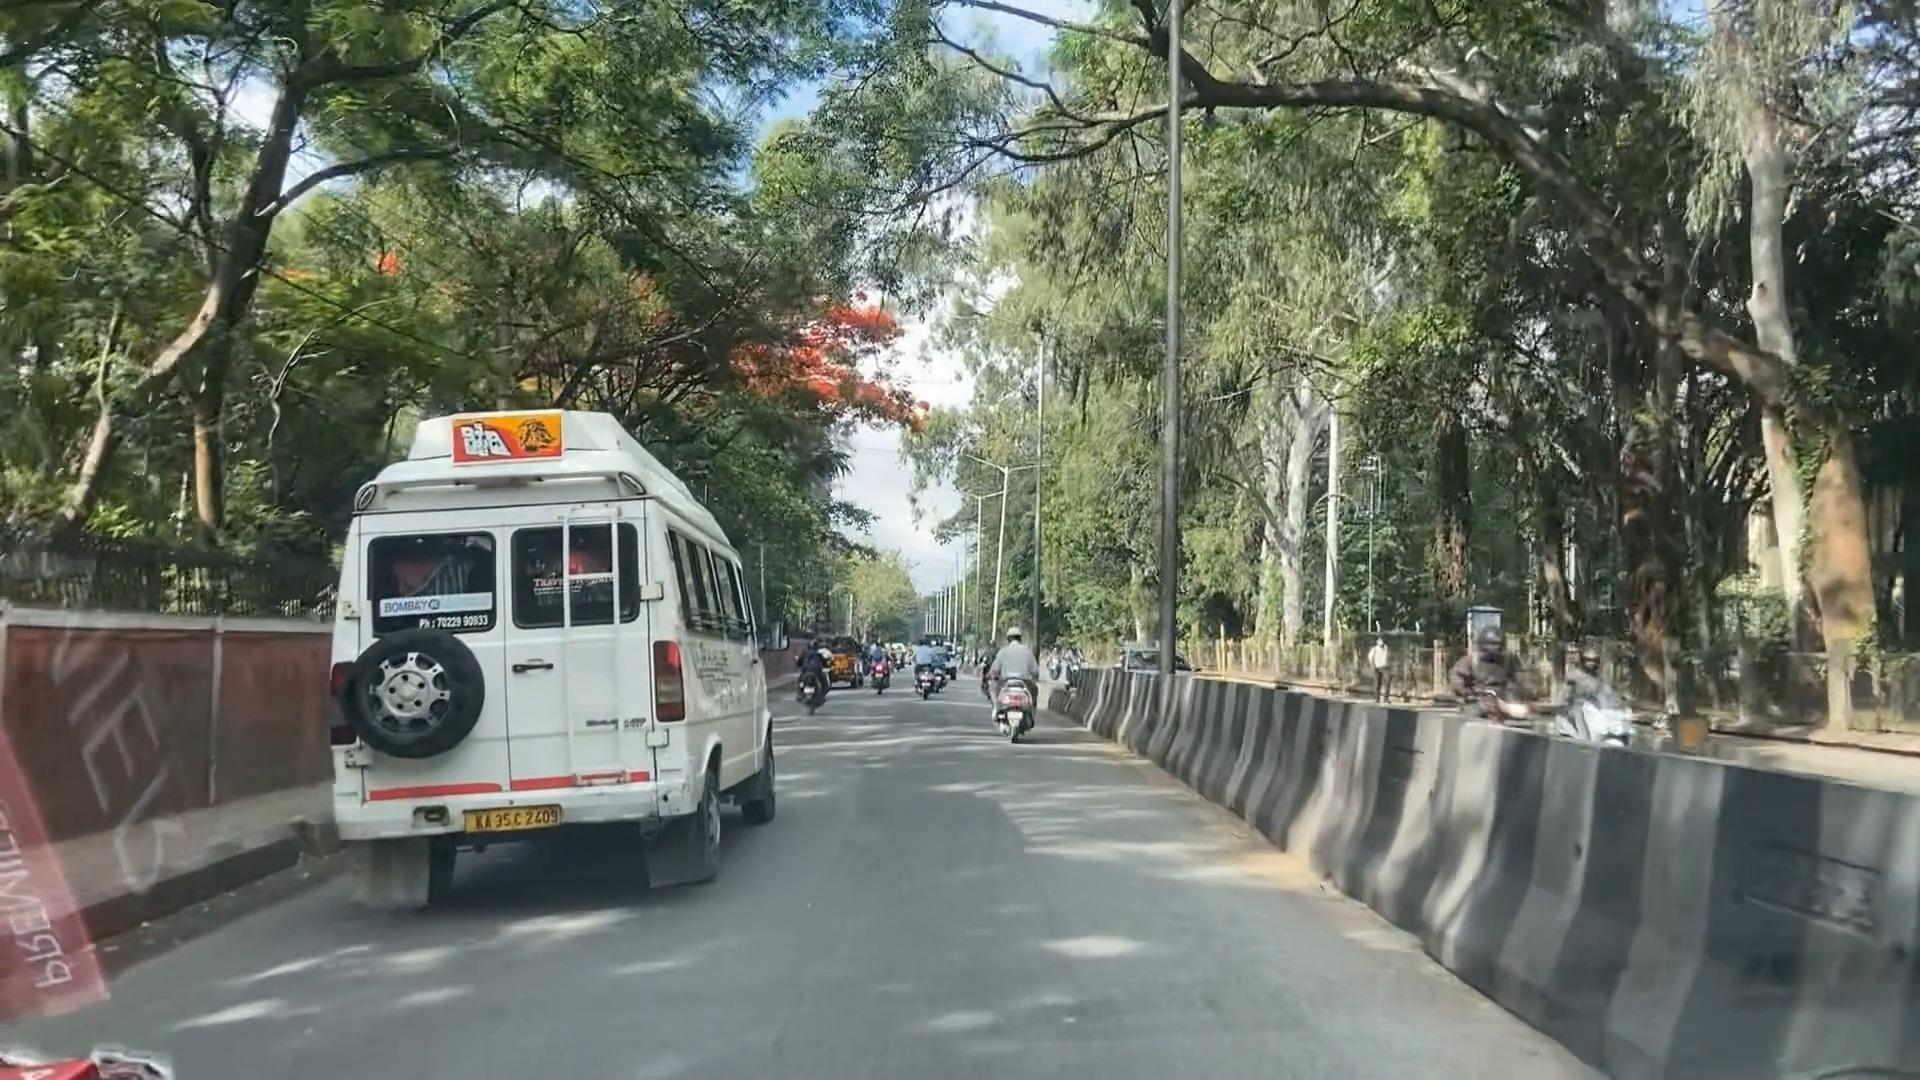HMV: (290, 426, 783, 920)
